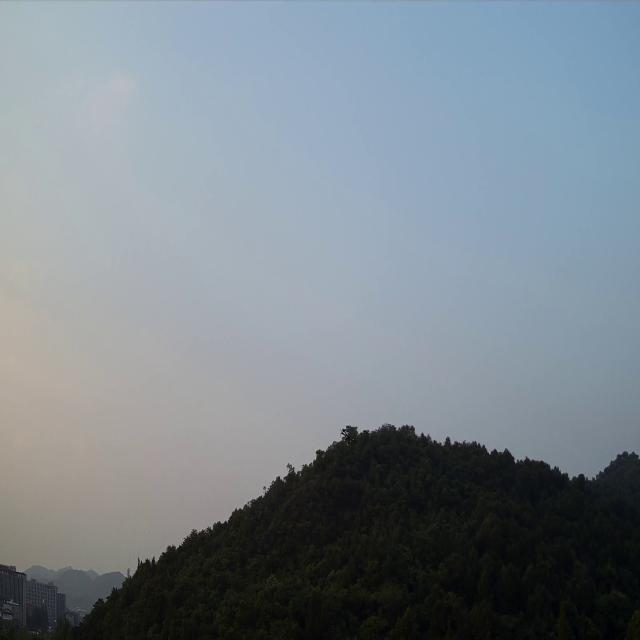UAV: (340, 427, 354, 443)
